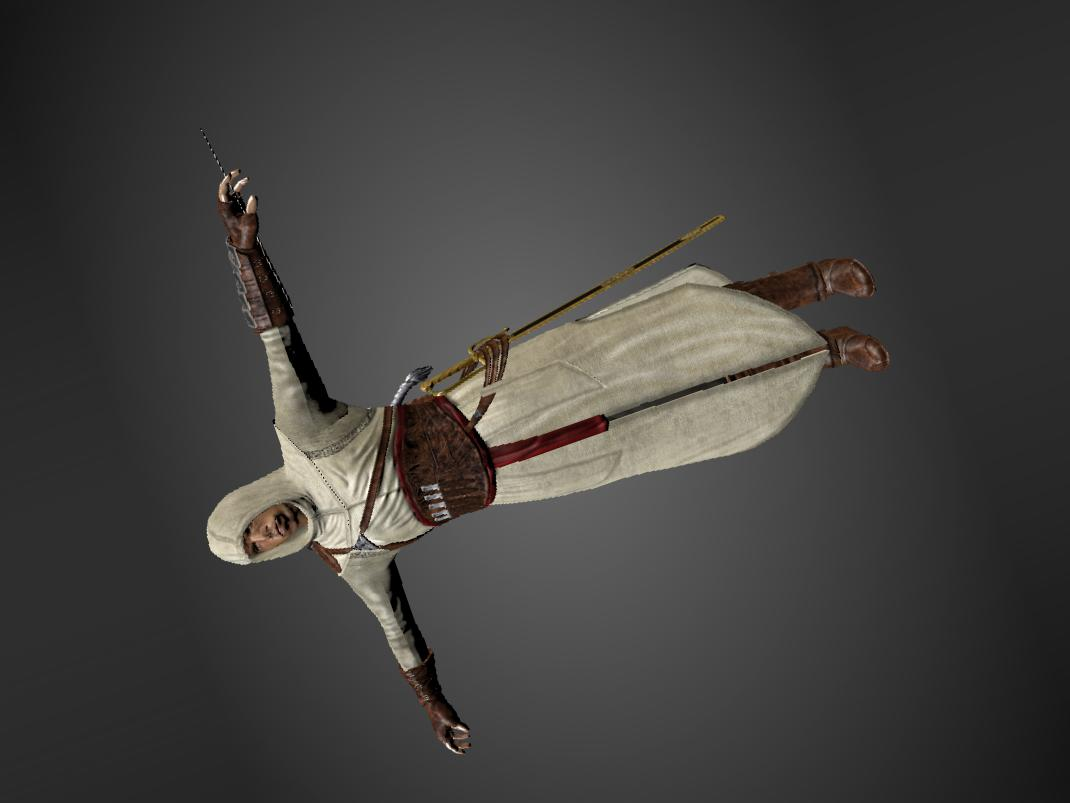clip: (477, 379, 509, 403)
